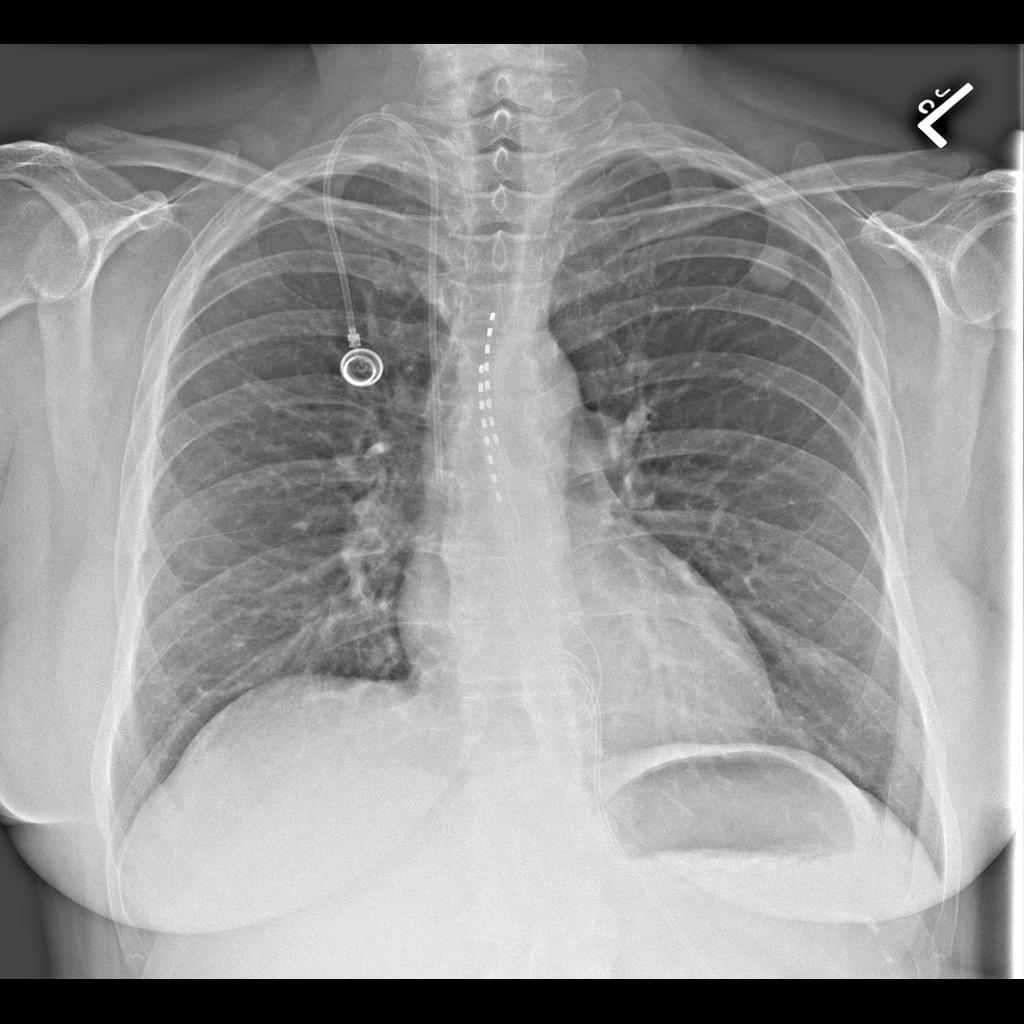Nodule: (745, 238, 807, 302)
